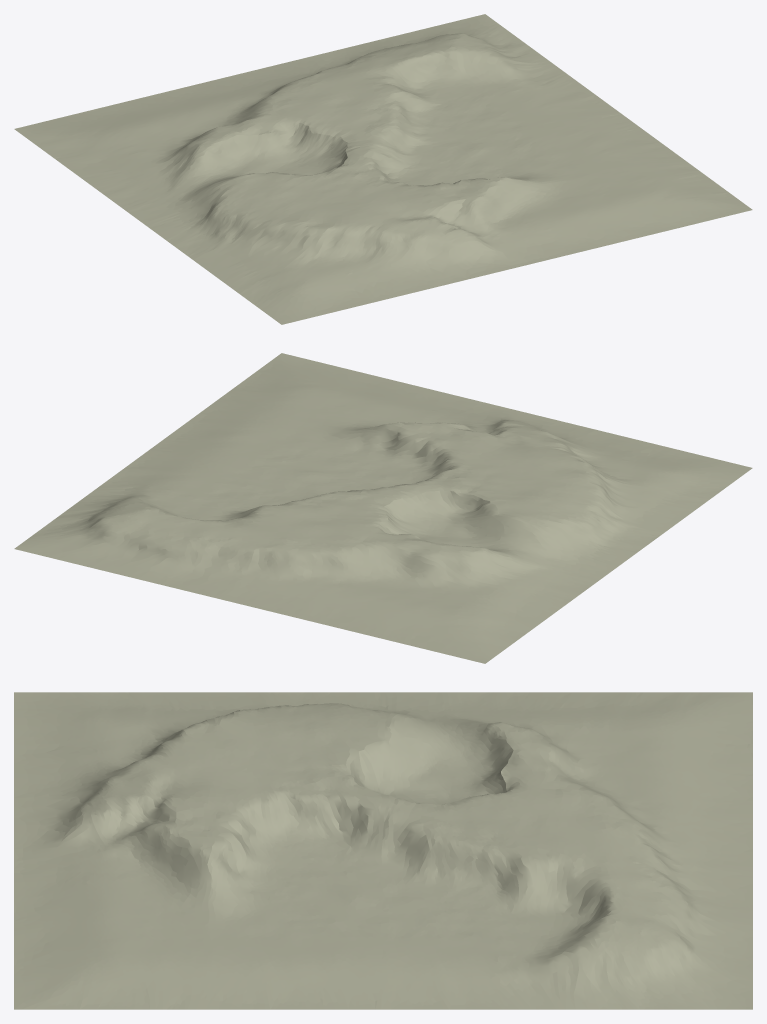
File: island_map_B.fbx
3 renders of one model, top to bottom at view 1: azimuth 30°, elevation 25°; view 2: azimuth 150°, elevation 25°; view 3: azimuth 270°, elevation 25°, orthographic. The views are drawn at different scales.
Parts seen in each view (by area): view 1: island_map_B; view 2: island_map_B; view 3: island_map_B.
Boxes of the visible parts, x1,y1,x2,y2 form: island_map_B: (14,14,752,324); island_map_B: (14,353,752,663); island_map_B: (14,692,752,1009).
Bounding box in the file's own units: 21857 × 1132 × 21506.
